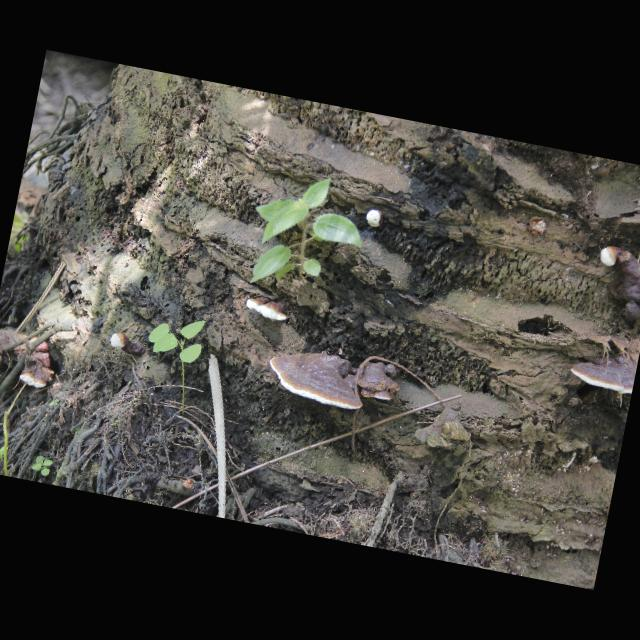ganoderma: (264, 345, 372, 414), (569, 346, 640, 398), (608, 250, 640, 328), (352, 359, 406, 405), (19, 340, 60, 392), (246, 295, 291, 324), (1, 329, 26, 376)
primordium: (600, 245, 622, 269), (366, 209, 387, 230), (110, 332, 131, 352)
